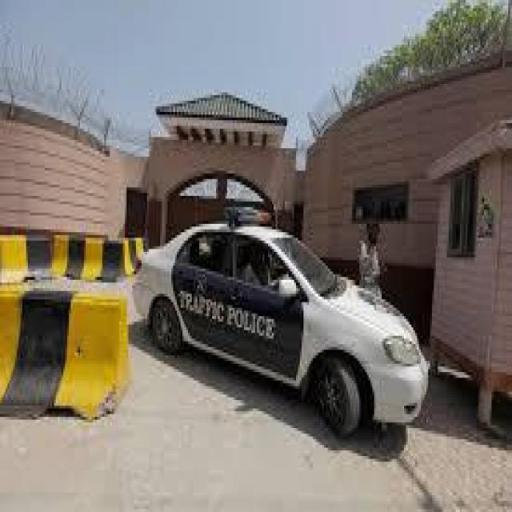Ambulance: (136, 198, 430, 442)
